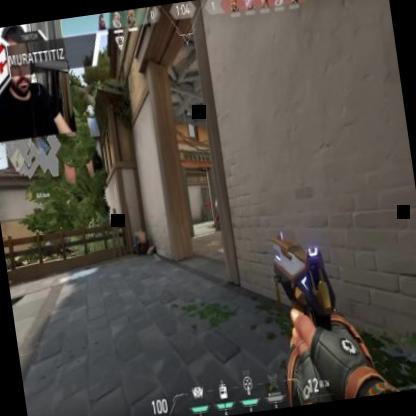enemy: (212, 193, 232, 252)
